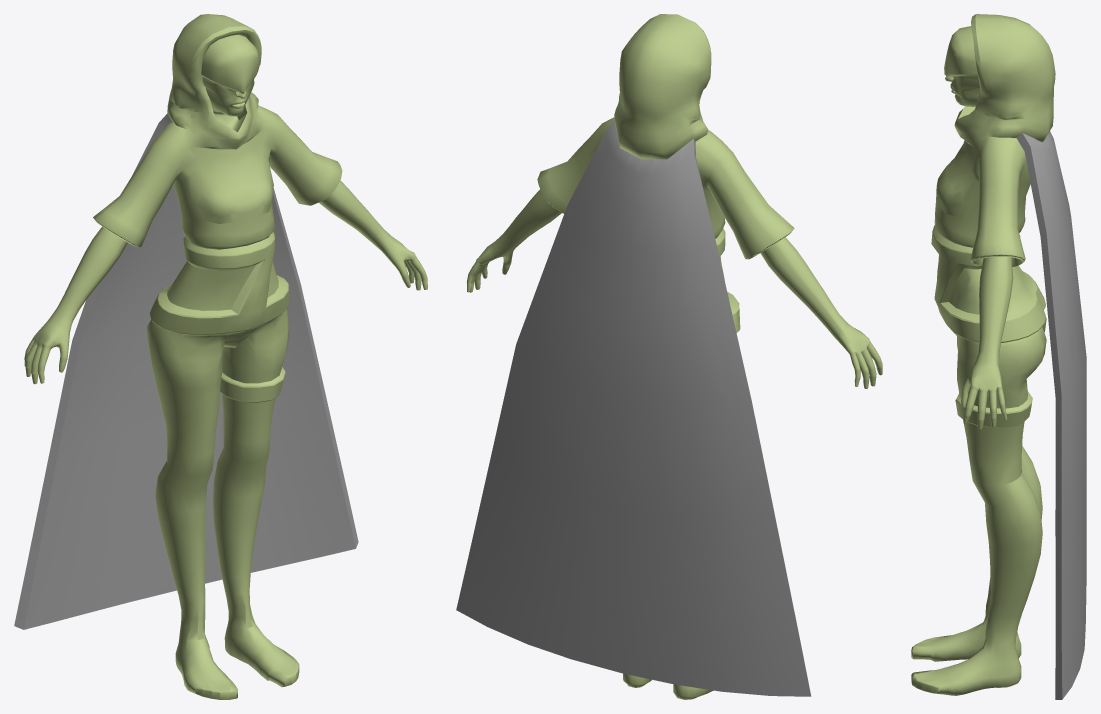
Rendered from Zylar_Blink_Mesh.fbx.
3 views of the same model, side by side, from view 1: azimuth 30°, elevation 25°; view 2: azimuth 150°, elevation 25°; view 3: azimuth 270°, elevation 25° (orthographic). The views are drawn at different scales.
Parts seen in each view (by area): view 1: CHAR_Zylar, CHAR_Cape; view 2: CHAR_Cape, CHAR_Zylar; view 3: CHAR_Zylar, CHAR_Cape.
Boxes of the visible parts, <box> form: CHAR_Zylar: <box>24,14,427,699</box>; CHAR_Cape: <box>14,113,358,629</box>; CHAR_Cape: <box>456,119,811,696</box>; CHAR_Zylar: <box>467,14,882,699</box>; CHAR_Zylar: <box>911,14,1055,695</box>; CHAR_Cape: <box>1016,131,1086,699</box>.
Bounding box in the file's own units: 108 × 171 × 41.64.
